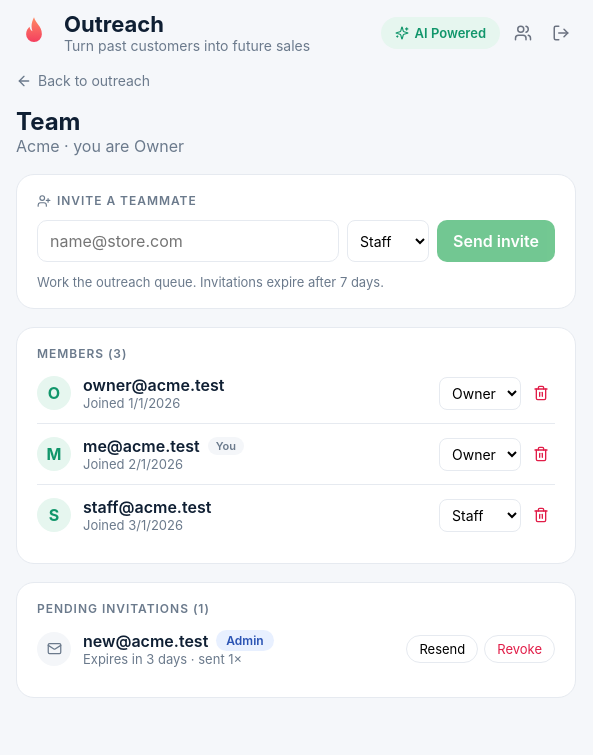
Team page › owner sees members, pending invites, and can invite with any role
Check: the text "staff@acme.test" is shown, box [83, 497, 211, 517]
Check: the text "new@acme.test" is shown, box [83, 630, 208, 650]
Type "hire@acme.test" into the field named "Email address" at x=188, y=241, box [37, 220, 339, 262]
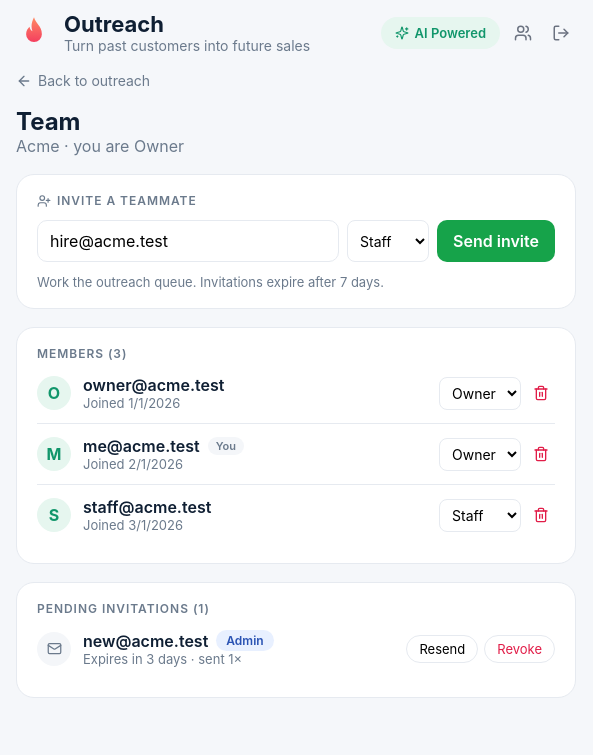
Select "Admin" in the dropdown named "Role" at x=388, y=241, box [347, 220, 429, 262]
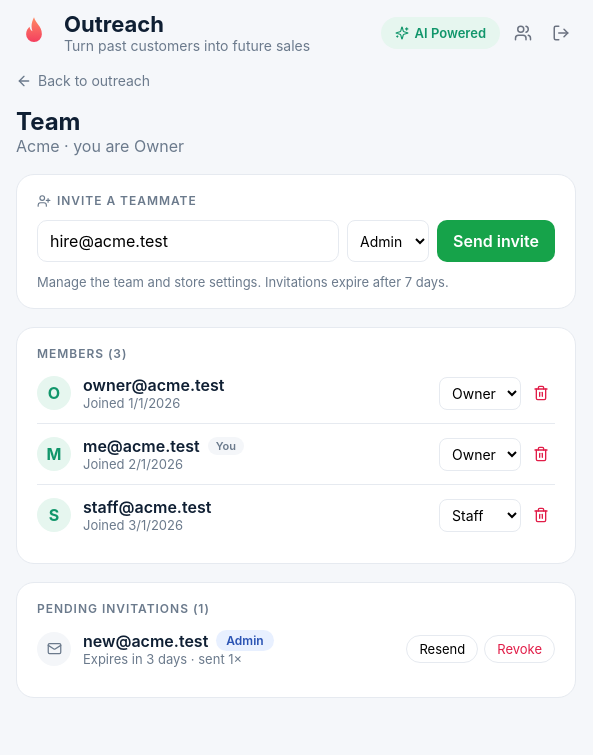
Click the button "Send invite" at x=496, y=241, box [437, 220, 555, 262]
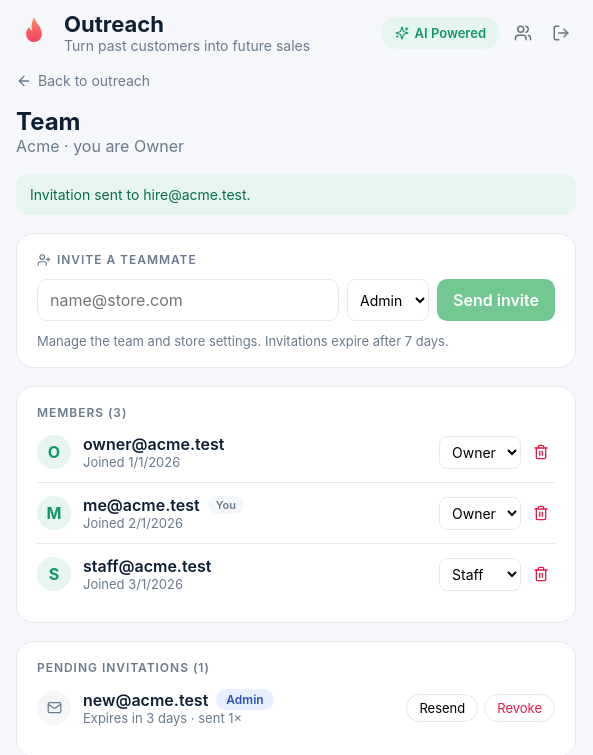
Check: the text "Invitation sent to hire@acme.test." is shown, box [30, 186, 251, 203]
